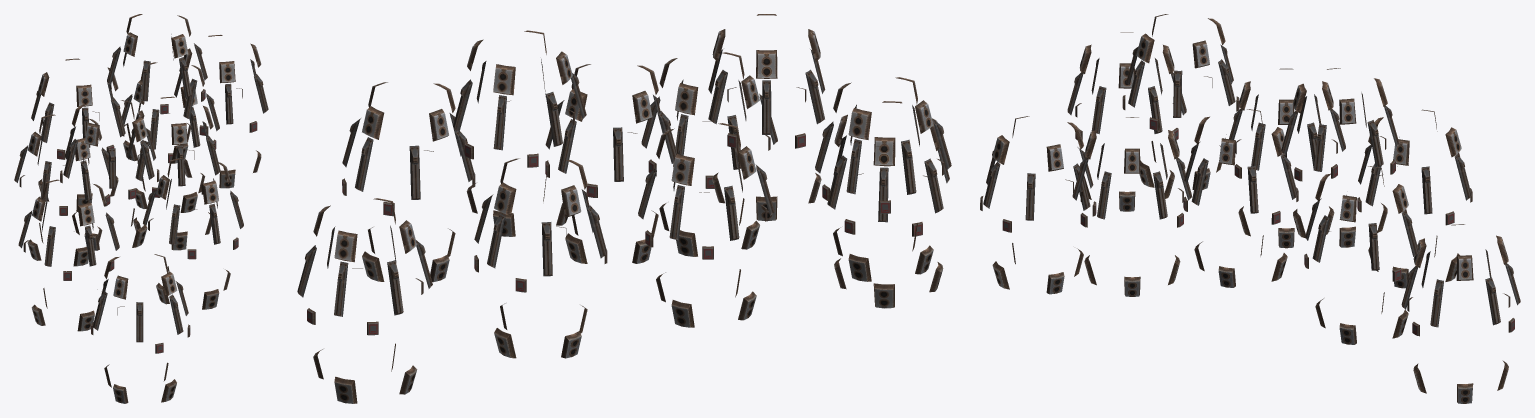
The model's file is prop_static_yao_container_01_02.glb.
3 renders of one model, left to right at view 1: azimuth 30°, elevation 25°; view 2: azimuth 150°, elevation 25°; view 3: azimuth 270°, elevation 25°, orthographic. The views are drawn at different scales.
Parts seen in each view (by area): view 1: yao_container_01_02_LOD0; view 2: yao_container_01_02_LOD0; view 3: yao_container_01_02_LOD0.
Part boxes in pixels (x1,y1,x2,y2): yao_container_01_02_LOD0: [14, 14, 268, 403]; yao_container_01_02_LOD0: [297, 14, 951, 403]; yao_container_01_02_LOD0: [980, 14, 1520, 403].
Size of what is drawn, in the model's own units: 7.9 by 5.39 by 9.46.
Materials: 1 (1 with a texture image).
